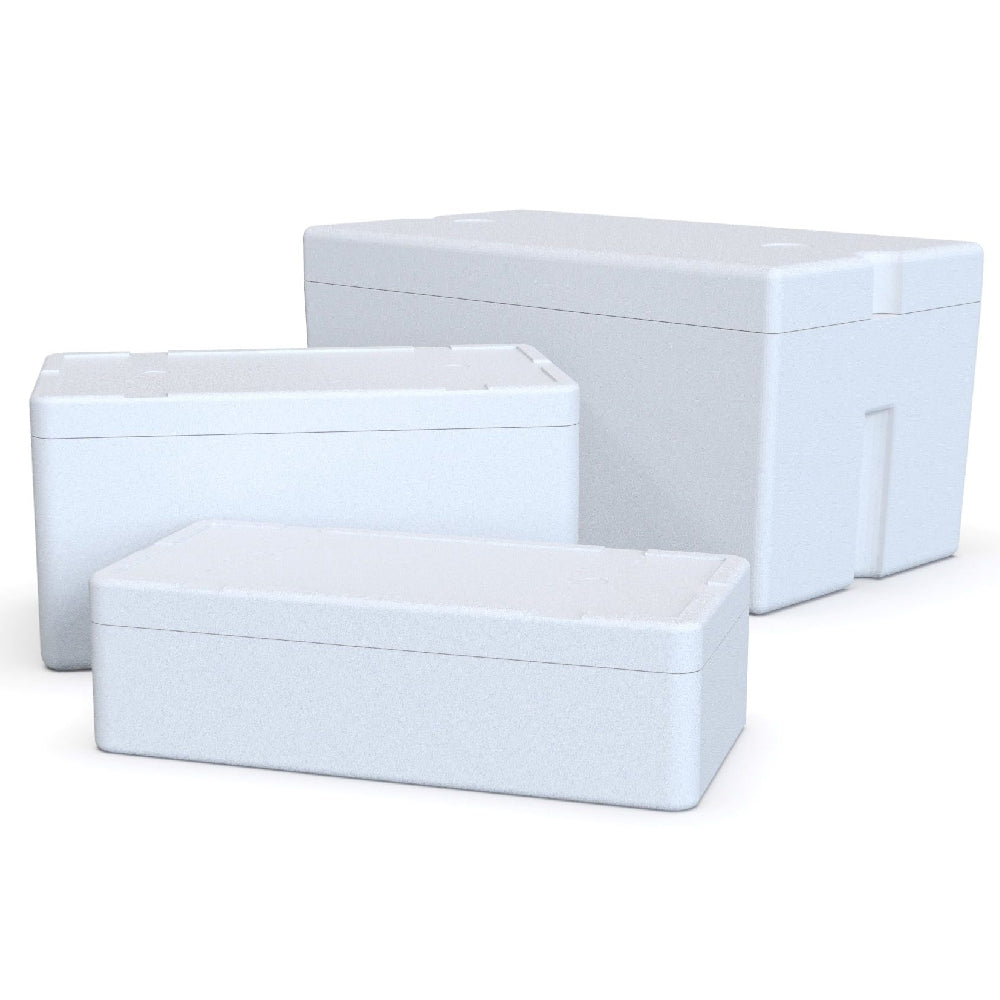Boxes: (30, 212, 982, 810)
